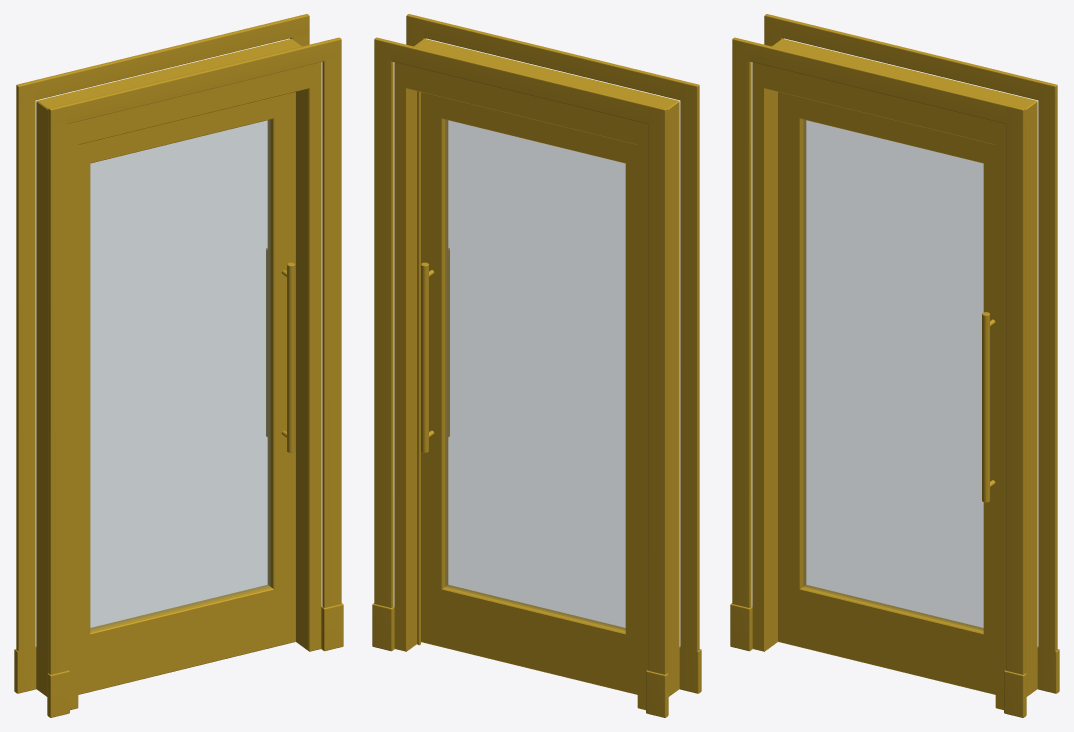
File: prop_door_single_glass_t20.glb
3 renders of one model, left to right at view 1: azimuth 30°, elevation 25°; view 2: azimuth 150°, elevation 25°; view 3: azimuth 330°, elevation 25°, orthographic.
Parts seen in each view (by area): view 1: LeafMesh, Frame; view 2: LeafMesh, Frame; view 3: LeafMesh, Frame.
Part boxes in pixels (<box>): LeafMesh: <box>78,92,295,694</box>; Frame: <box>14,14,343,717</box>; LeafMesh: <box>421,92,637,694</box>; Frame: <box>372,14,701,717</box>; LeafMesh: <box>778,92,995,694</box>; Frame: <box>730,14,1059,717</box>.
Size of what is drawn, in the model's own units: 1.15 by 2.27 by 0.248.
